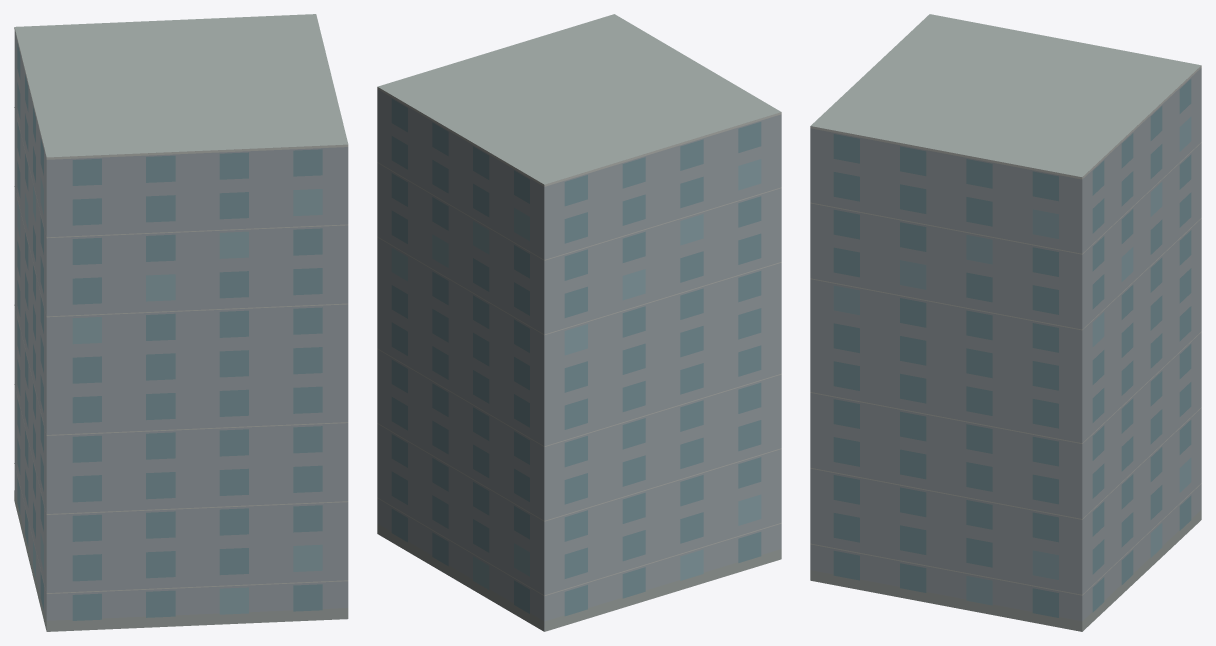
Rendered from survey-upis-32741147.glb.
3 views of the same model, side by side, from view 1: azimuth 30°, elevation 25°; view 2: azimuth 150°, elevation 25°; view 3: azimuth 270°, elevation 25° (orthographic). The views are drawn at different scales.
Parts seen in each view (by area): view 1: survey-upis-32741147.tmp; view 2: survey-upis-32741147.tmp; view 3: survey-upis-32741147.tmp.
Part boxes in pixels (x1=…): survey-upis-32741147.tmp: x1=14, y1=14, x2=348, y2=631; survey-upis-32741147.tmp: x1=377, y1=14, x2=781, y2=631; survey-upis-32741147.tmp: x1=810, y1=14, x2=1201, y2=631.
Size of the model in its own units: 37.41 by 48.55 by 37.88.
